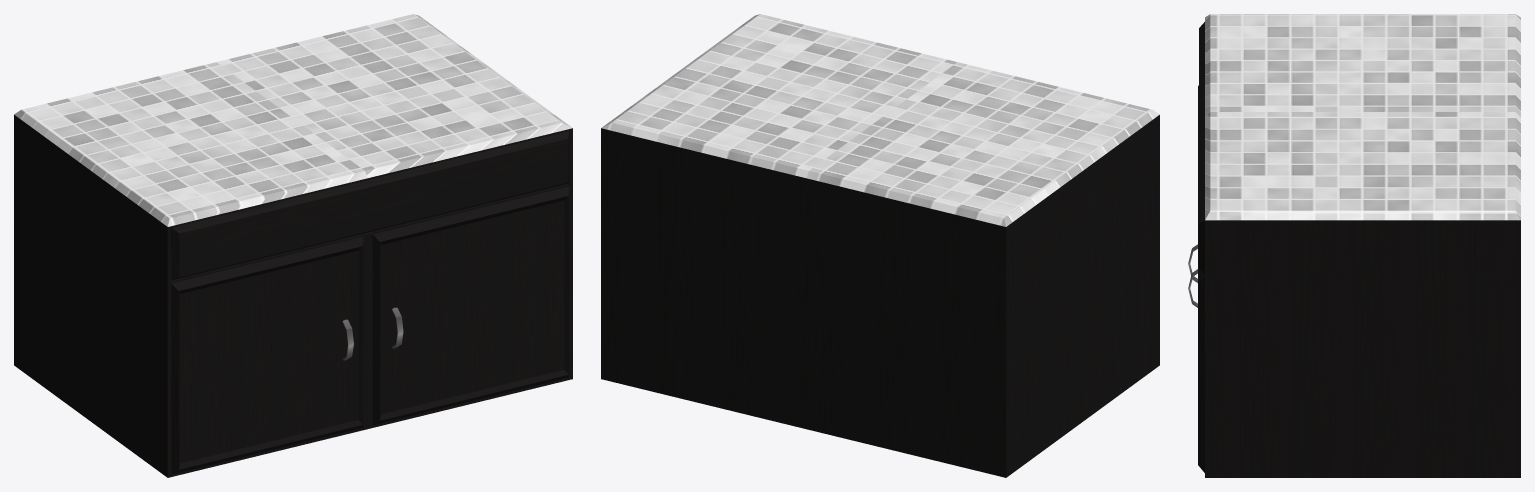
File: Open_Kitchencounter_A_3.FBX
The picture shows the model from 3 angles, left to right: view 1: azimuth 30°, elevation 25°; view 2: azimuth 150°, elevation 25°; view 3: azimuth 270°, elevation 25°; orthographic projection. The views are drawn at different scales.
Parts seen in each view (by area): view 1: Open_Counters, Door_ R_2, Door_ R_003, Drawer; view 2: Open_Counters; view 3: Open_Counters, Door_ R_2, Drawer.
Boxes of the visible parts, bbox=[...] form: Open_Counters: bbox=[14, 14, 572, 477]; Door_ R_2: bbox=[372, 186, 569, 425]; Door_ R_003: bbox=[171, 237, 363, 474]; Drawer: bbox=[171, 131, 569, 280]; Open_Counters: bbox=[601, 14, 1159, 477]; Open_Counters: bbox=[1205, 14, 1520, 477]; Door_ R_2: bbox=[1188, 186, 1204, 472]; Drawer: bbox=[1199, 22, 1204, 274].
Size of the model in its own units: 228 by 138 by 158.
